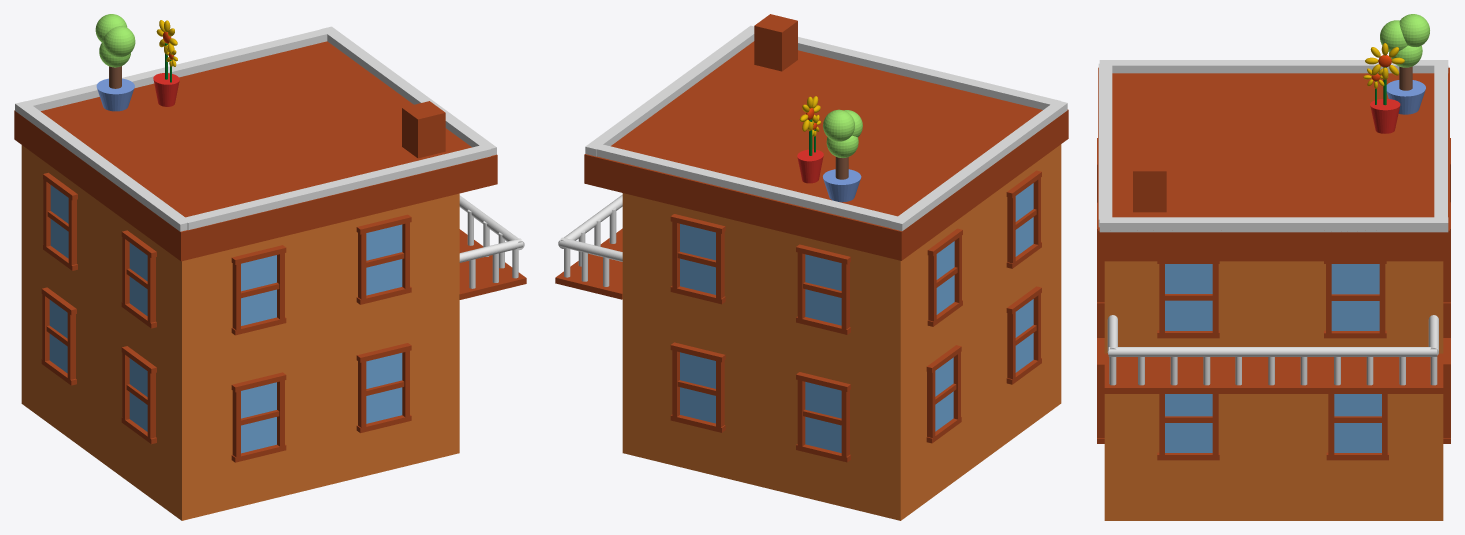
The model's file is apartmentroof.glb.
3 views of the same model, side by side, from view 1: azimuth 30°, elevation 25°; view 2: azimuth 150°, elevation 25°; view 3: azimuth 270°, elevation 25° (orthographic). The views are drawn at different scales.
Parts seen in each view (by area): view 1: Cube, Cube.001, Cube.013, Cube.014, Cube.012, Cube.011, Cube.018, Cube.022, Cube.024, Cube.019, Cube.010, Cube.017 (+17 smaller); view 2: Cube, Cube.001, Cube.014, Cube.013, Cube.012, Cube.011, Cube.029, Cube.026, Cube.031, Cube.027, Cube.010, Cube.015 (+17 smaller); view 3: Cube, Cube.001, Cube.009, Cube.011, Cube.012, Cylinder.017, Cube.008, Cube.002, Cube.004, Cube.006, Cube.013, Cube.014 (+12 smaller).
Boxes of the visible parts, left/top/right/bottom form: Cube: left=21, top=145, right=459, bottom=520; Cube.001: left=14, top=41, right=497, bottom=261; Cube.013: left=185, top=145, right=490, bottom=230; Cube.014: left=23, top=29, right=331, bottom=111; Cube.012: left=15, top=101, right=190, bottom=231; Cube.011: left=321, top=26, right=496, bottom=155; Cube.018: left=231, top=245, right=286, bottom=335; Cube.022: left=231, top=372, right=286, bottom=462; Cube.024: left=356, top=343, right=411, bottom=433; Cube.019: left=356, top=214, right=411, bottom=304; Cube.010: left=402, top=101, right=445, bottom=158; Cube.017: left=366, top=224, right=402, bottom=295; Cube: left=622, top=144, right=1061, bottom=520; Cube.001: left=584, top=41, right=1068, bottom=260; Cube.014: left=592, top=144, right=900, bottom=228; Cube.013: left=798, top=37, right=1060, bottom=109; Cube.012: left=891, top=101, right=1067, bottom=231; Cube.011: left=585, top=25, right=754, bottom=156; Cube.029: left=796, top=372, right=850, bottom=462; Cube.026: left=796, top=244, right=850, bottom=334; Cube.031: left=670, top=342, right=725, bottom=432; Cube.027: left=670, top=214, right=725, bottom=304; Cube.010: left=754, top=14, right=797, bottom=71; Cube.015: left=805, top=254, right=841, bottom=325; Cube: left=1104, top=261, right=1443, bottom=520; Cube.001: left=1098, top=67, right=1449, bottom=261; Cube.009: left=1104, top=353, right=1443, bottom=393; Cube.011: left=1099, top=217, right=1448, bottom=232; Cube.012: left=1099, top=60, right=1448, bottom=73; Cylinder.017: left=1108, top=347, right=1437, bottom=356; Cube.008: left=1331, top=264, right=1379, bottom=330; Cube.002: left=1165, top=264, right=1212, bottom=330; Cube.004: left=1165, top=394, right=1212, bottom=452; Cube.006: left=1334, top=394, right=1381, bottom=452; Cube.013: left=1098, top=63, right=1112, bottom=227; Cube.014: left=1434, top=63, right=1447, bottom=217.
Size of the model in its own units: 2.52 by 2.62 by 2.09.
